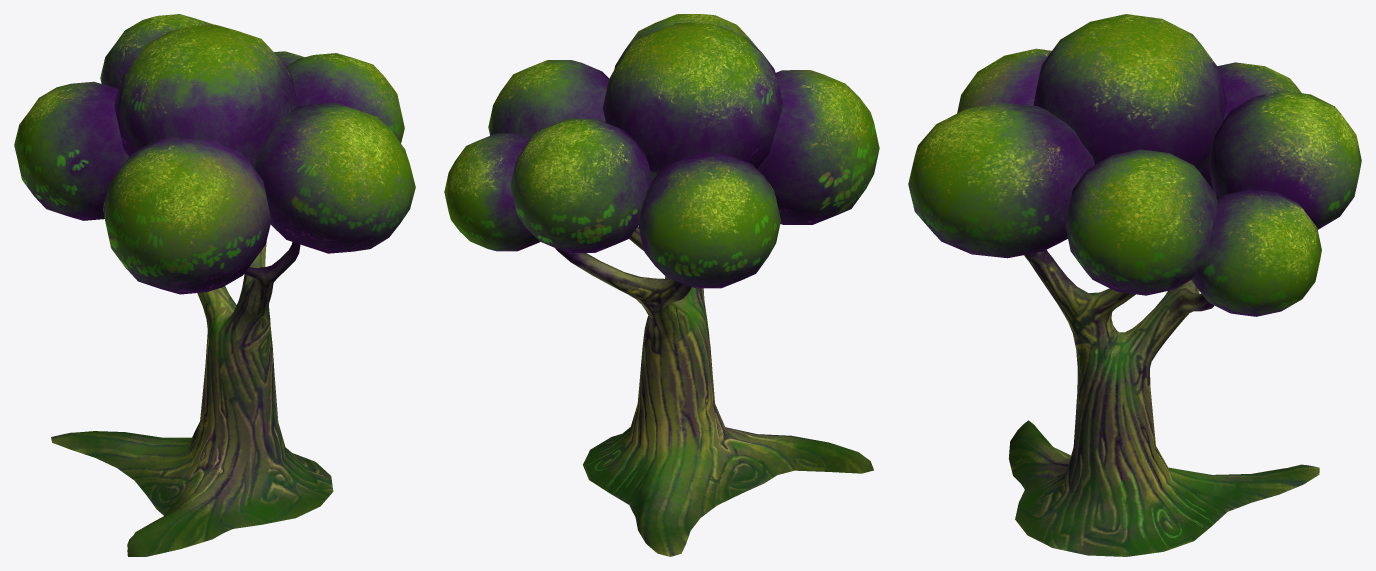
Rendered from tree.dae.
3 views of the same model, side by side, from view 1: azimuth 30°, elevation 25°; view 2: azimuth 150°, elevation 25°; view 3: azimuth 270°, elevation 25° (orthographic). The views are drawn at different scales.
Visible parts, largest first — view 1: Tree; view 2: Tree; view 3: Tree.
Part boxes in pixels (x1,y1,x2,y2): Tree: (14,14,415,556); Tree: (444,14,879,556); Tree: (908,14,1361,556).
Size of the model in its own units: 3.31 by 4.39 by 3.78.
